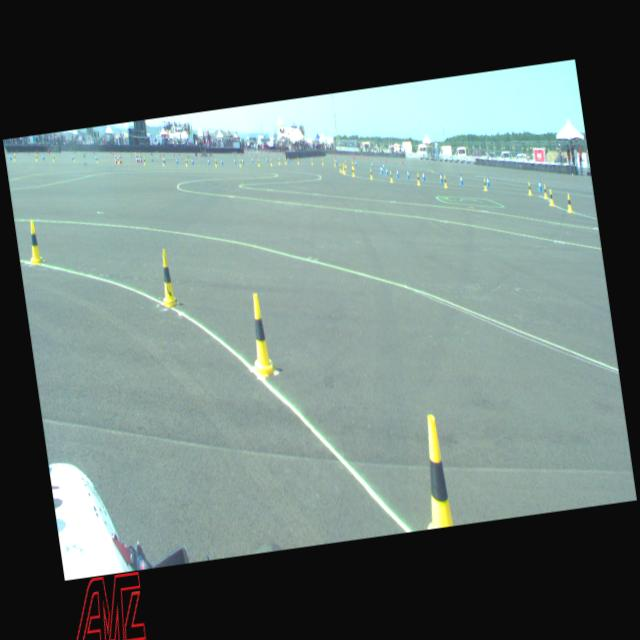blue_cone: (458, 173, 464, 186), (438, 172, 444, 184), (421, 170, 426, 182), (384, 163, 388, 176), (538, 180, 542, 192), (406, 169, 410, 180), (486, 176, 490, 187), (396, 168, 400, 178), (334, 158, 338, 166), (233, 158, 236, 166), (380, 166, 383, 174), (354, 159, 357, 167), (371, 161, 374, 169), (382, 162, 385, 170), (241, 157, 244, 165), (191, 157, 194, 165), (251, 157, 254, 164), (42, 153, 45, 160), (9, 153, 12, 160), (208, 157, 210, 166), (138, 155, 140, 163), (288, 156, 290, 164), (176, 157, 178, 165), (266, 156, 268, 163), (221, 158, 223, 165), (95, 154, 97, 161), (72, 154, 74, 160)
large_orange_cone: (118, 151, 122, 164), (114, 152, 118, 164), (138, 150, 142, 162), (134, 152, 138, 162)
yellow_cone: (412, 414, 454, 530), (244, 292, 278, 378), (156, 248, 178, 308), (24, 220, 44, 266), (565, 193, 573, 213), (548, 189, 554, 206), (542, 184, 548, 200), (527, 182, 532, 196), (416, 172, 421, 186), (443, 175, 448, 188), (482, 178, 487, 191), (369, 168, 373, 180), (389, 170, 393, 182), (351, 166, 355, 177), (13, 152, 17, 162), (34, 152, 38, 162), (338, 163, 342, 173), (162, 157, 166, 166), (214, 158, 218, 167), (296, 157, 300, 166), (52, 154, 56, 162), (239, 158, 242, 168), (351, 160, 354, 170), (143, 157, 146, 166), (257, 158, 260, 167), (278, 157, 281, 166), (343, 165, 346, 174), (117, 156, 120, 164), (96, 155, 99, 163), (270, 158, 273, 166), (344, 160, 347, 168), (321, 158, 324, 166), (311, 157, 314, 165), (73, 155, 76, 163), (284, 158, 287, 165), (186, 158, 188, 167), (334, 159, 336, 167)
